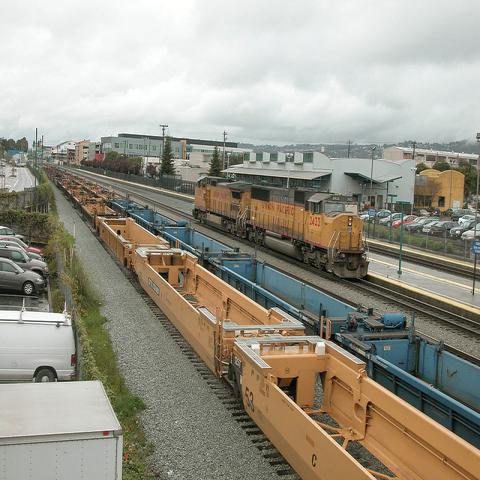car: (366, 207, 479, 242), (0, 256, 46, 297), (0, 246, 50, 279), (0, 241, 45, 263), (1, 236, 46, 258), (449, 219, 476, 241), (430, 220, 460, 238), (414, 217, 440, 234), (0, 227, 28, 242), (379, 212, 406, 227), (450, 209, 480, 222), (406, 217, 428, 232), (360, 214, 370, 219), (1, 158, 5, 169)
truck: (0, 379, 125, 479)
